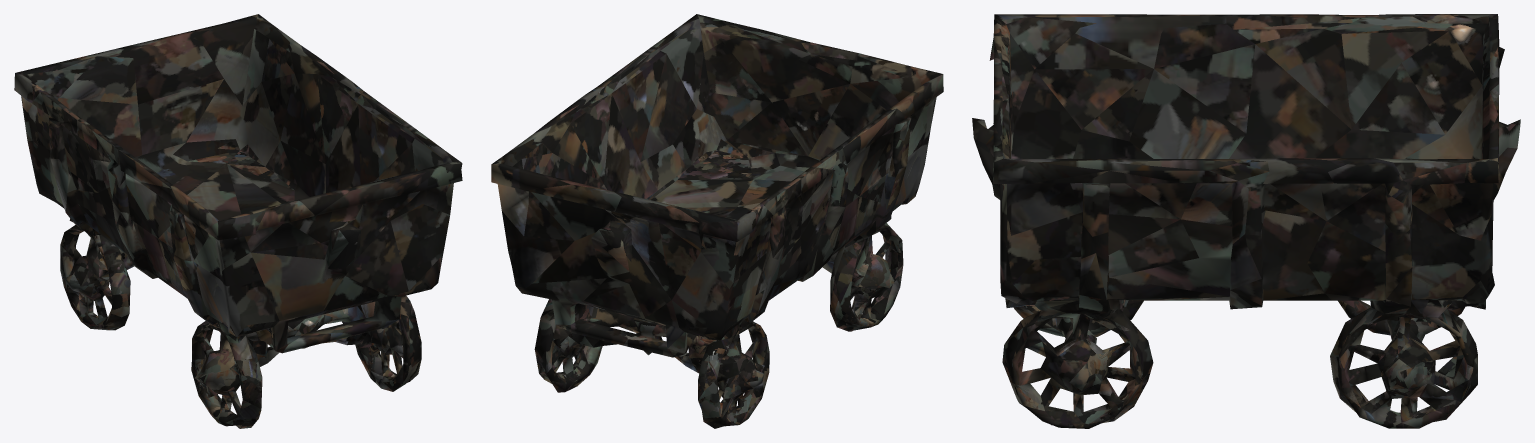
Rendered from Carrito.fbx.
The picture shows the model from 3 angles, left to right: view 1: azimuth 30°, elevation 25°; view 2: azimuth 150°, elevation 25°; view 3: azimuth 270°, elevation 25°; orthographic projection. The views are drawn at different scales.
Visible parts, largest first — view 1: input.003; view 2: input.003; view 3: input.003.
Boxes of the visible parts, x1=… form: input.003: x1=14, y1=14, x2=462, y2=428; input.003: x1=491, y1=14, x2=943, y2=428; input.003: x1=972, y1=14, x2=1520, y2=428.
Size of the model in its own units: 134 by 119 by 201.
